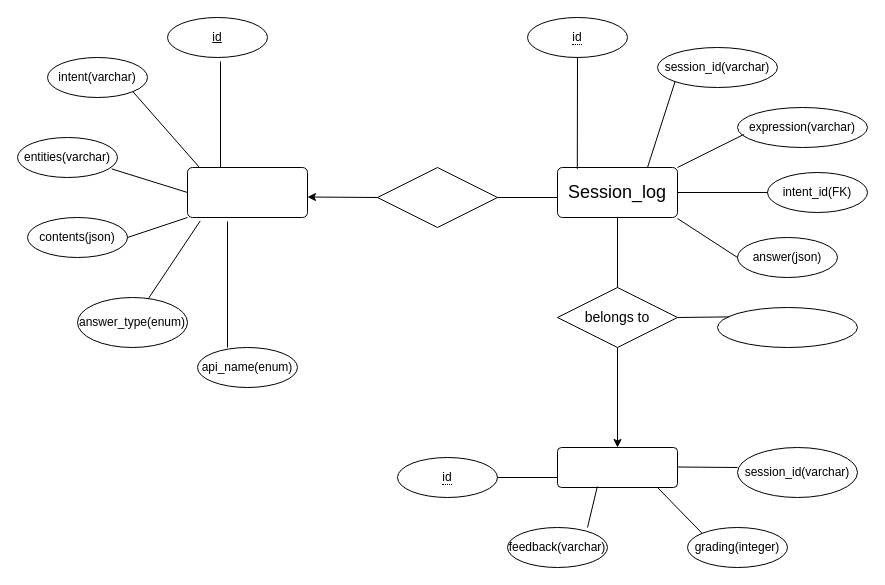
Image size: 885x585. Some labels were removed from this diagram. The shapes that lost their labels are listed below. From the top down, each one's centre as x and y in pixels, then its label:
point 247,192: Intents
point 437,197: recorded in
point 787,327: created_date(timestamp)
point 617,467: Conversations
